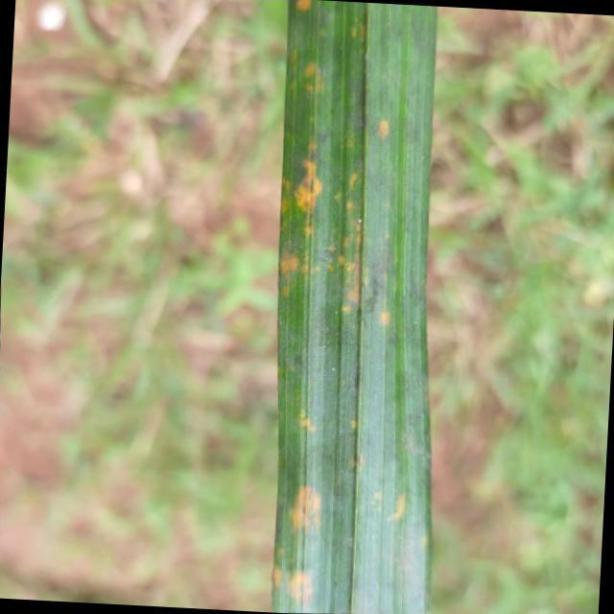Kalium: (275, 0, 441, 614)
